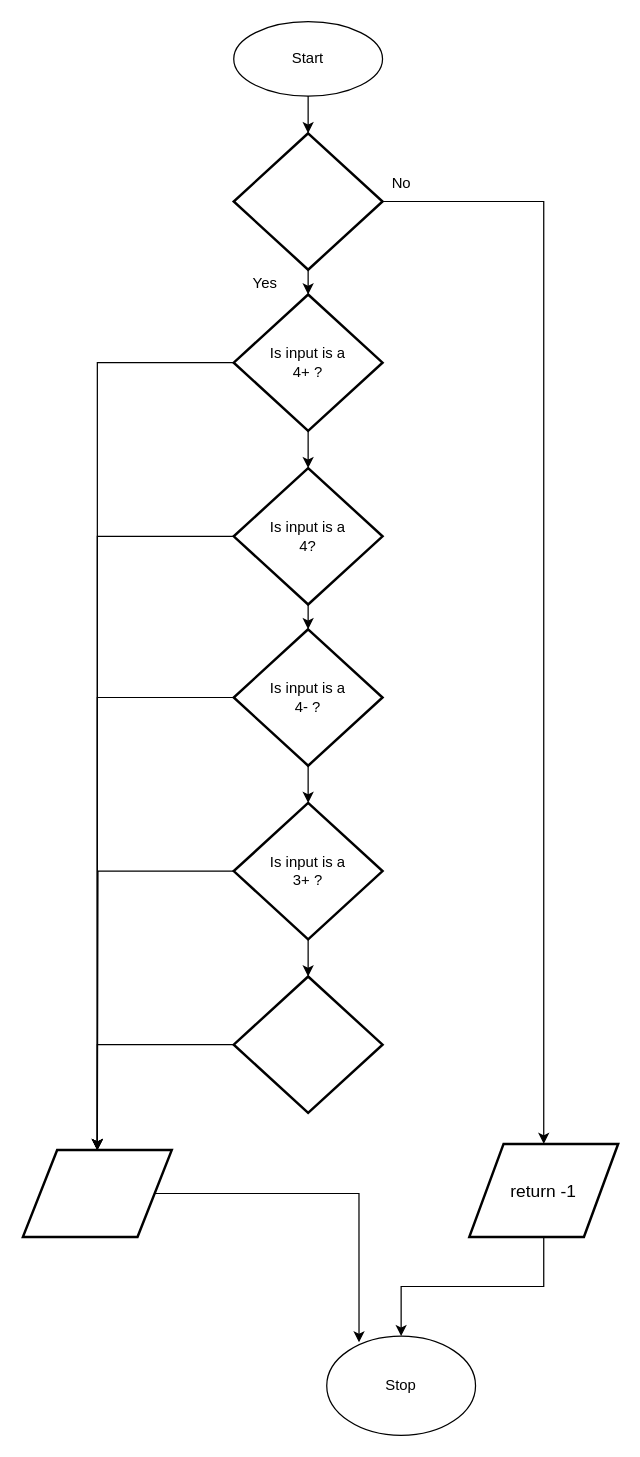
The diagram is 640 pixels wide and 1457 high, and some of its shapes have lost their labels. The shapes that lost their labels are listed below. From the top down, each one's centre as x and y in pixels, then its label:
the point at 307,200: Is input an integer?
the point at 307,1044: .... Is input a R ?
the point at 96,1193: Return mark calculation
